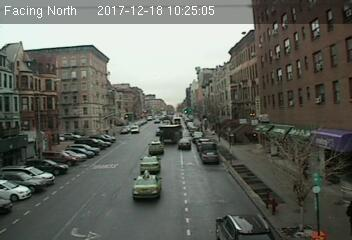car: (216, 211, 274, 240), (132, 172, 163, 198), (139, 155, 159, 172), (201, 148, 220, 165), (148, 141, 163, 154), (177, 138, 191, 151)
ups: (160, 125, 182, 145)
